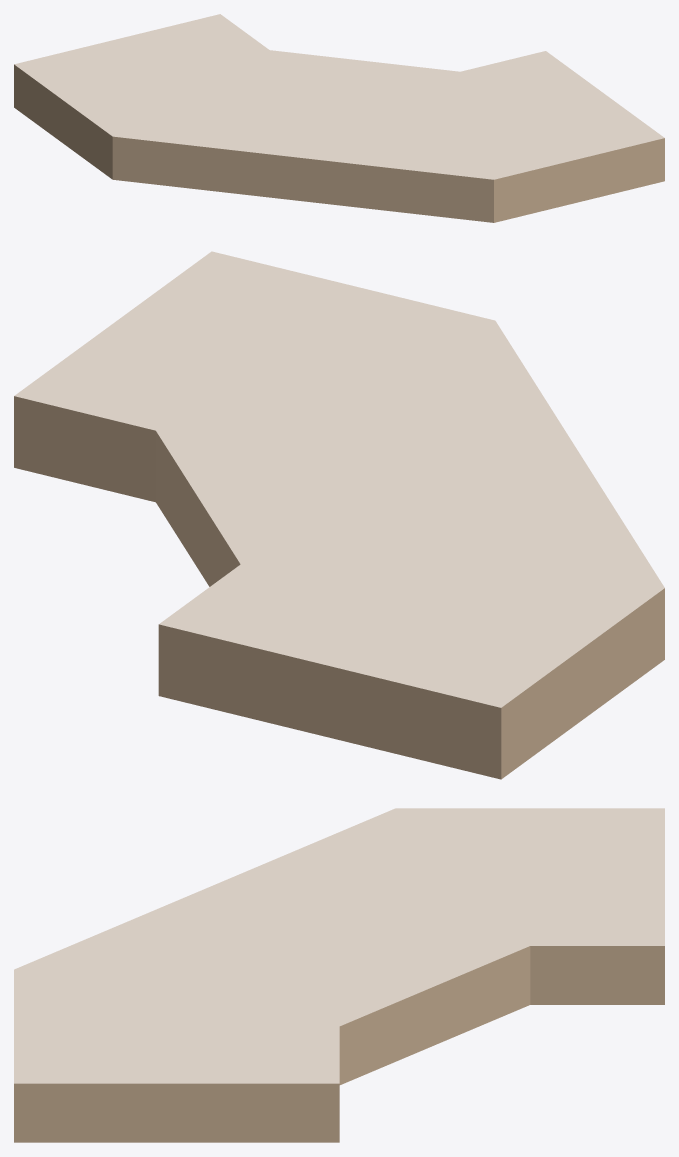
File: Floor_Curved_Large.fbx
The picture shows the model from 3 angles, top to bottom: view 1: azimuth 30°, elevation 25°; view 2: azimuth 150°, elevation 25°; view 3: azimuth 270°, elevation 25°; orthographic projection. The views are drawn at different scales.
Parts seen in each view (by area): view 1: Sandstone_Floor, Sandstone_Trim.object1; view 2: Sandstone_Floor, Sandstone_Trim.object1; view 3: Sandstone_Floor, Sandstone_Trim.object1.
Part boxes in pixels (x1=…): Sandstone_Floor: x1=14, y1=14, x2=664, y2=179; Sandstone_Trim.object1: x1=14, y1=64, x2=664, y2=222; Sandstone_Floor: x1=14, y1=251, x2=664, y2=707; Sandstone_Trim.object1: x1=14, y1=396, x2=664, y2=779; Sandstone_Floor: x1=14, y1=808, x2=664, y2=1083; Sandstone_Trim.object1: x1=14, y1=946, x2=664, y2=1142.
Size of the model in its own units: 2 by 0.2 by 2.
